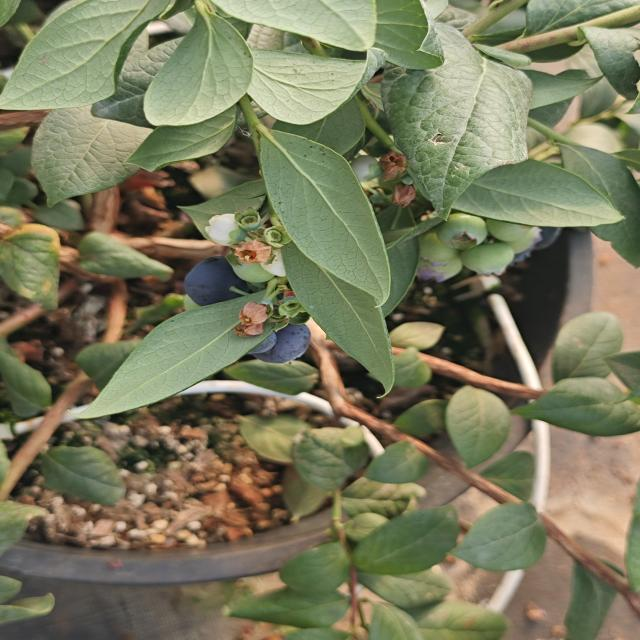ripe: (237, 316, 320, 367), (178, 252, 246, 310)
